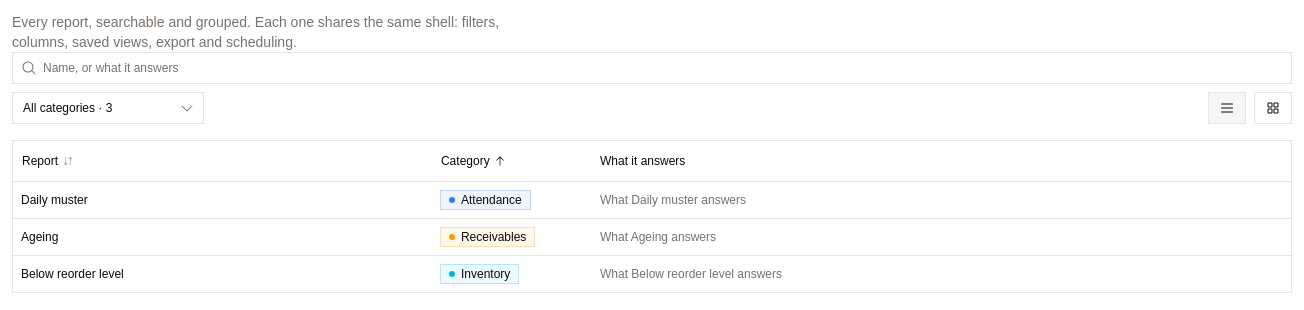
the report catalogue › says nothing matched, in whichever view is open
Click the button named "Card view": {"x": 1273, "y": 108} [1254,92,1292,124]
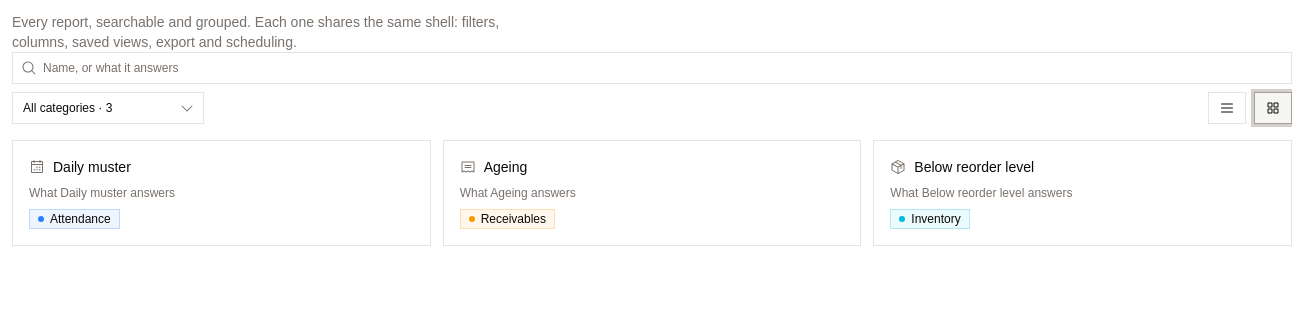
In the search field named "Search reports": {"x": 664, "y": 68} [37,52,1291,84], type "zzzz"
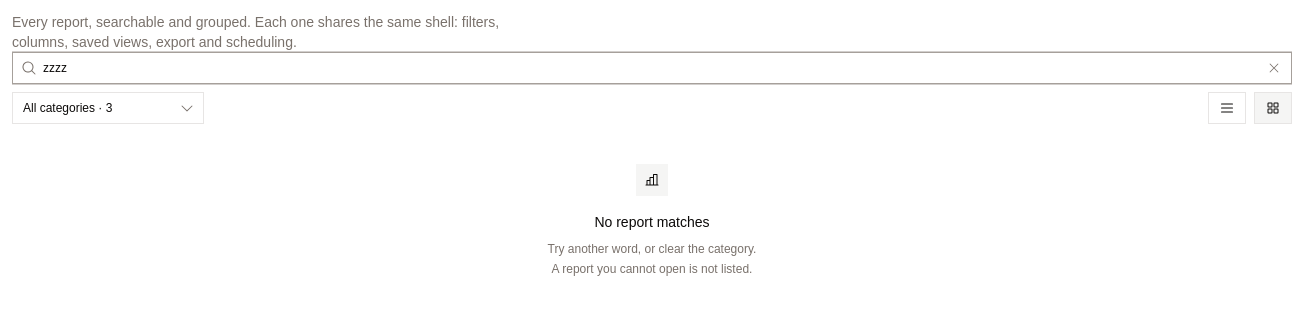
Now the text "No report matches" is shown, box [594,212,710,232]
